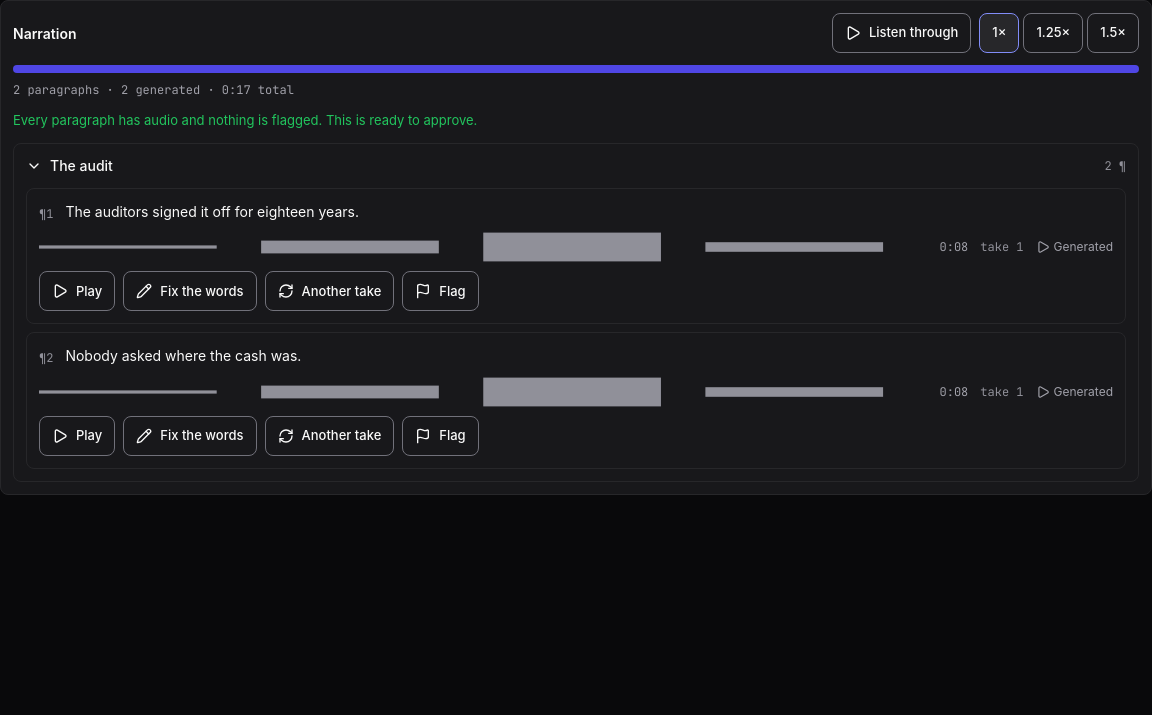
VoiceReview › repairing a flagged take › offers to fix the words without flagging first
Click the 1st button "Fix the words" at (190, 291), box [123, 271, 257, 311]
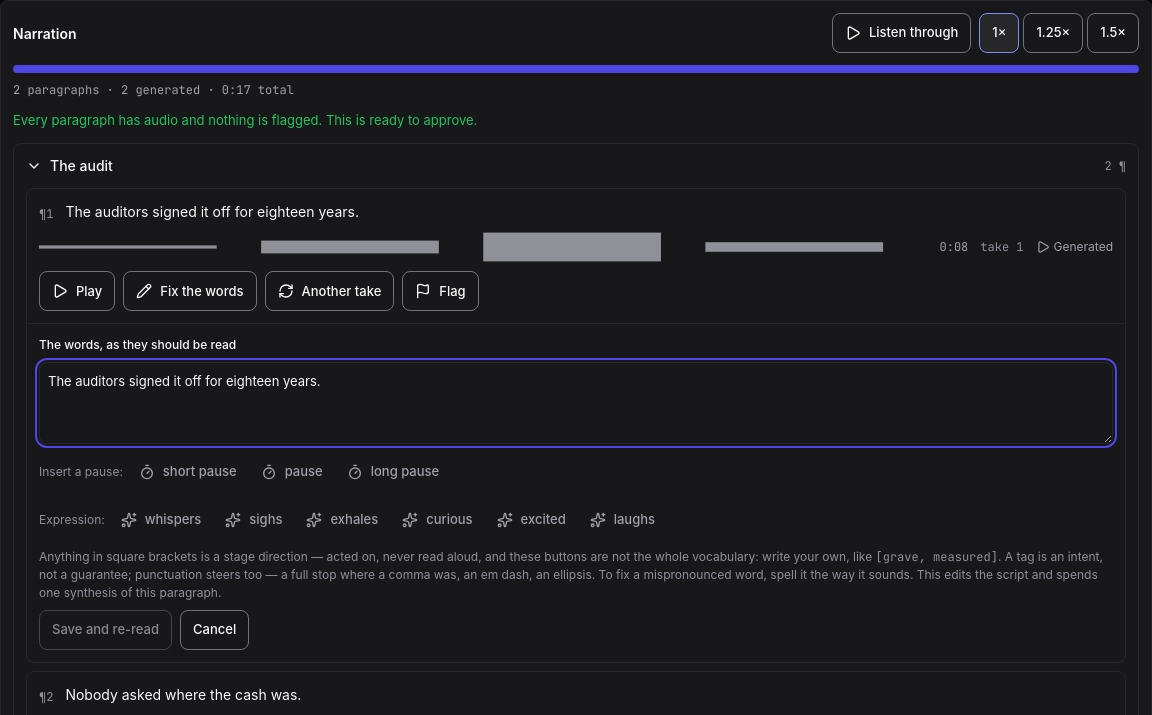
Now the text box labelled "The words, as they should be read" is shown, box [39, 362, 1113, 444]
